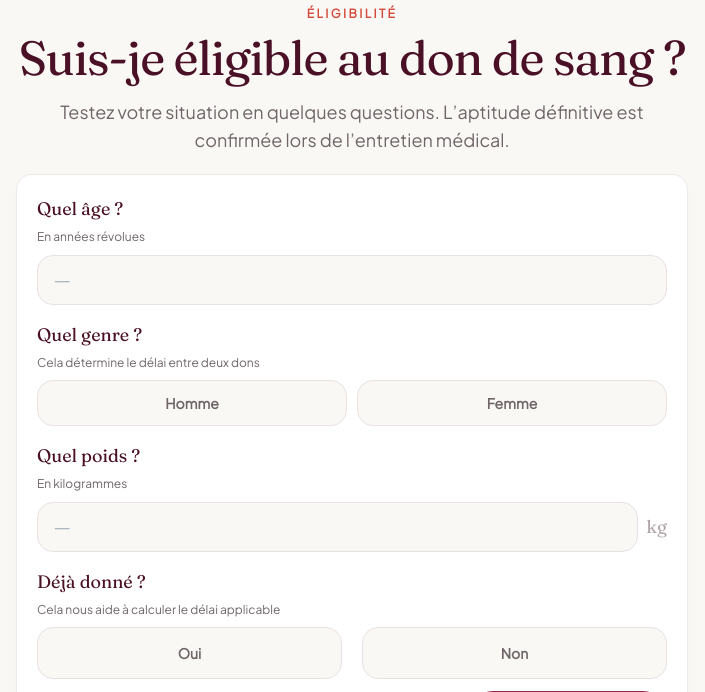
Test case: EligibilitySimulator › affiche directement le résultat si l’âge est bloquant
Type "16" into the number field labelled "Quel âge ?" at (352, 280), box [37, 254, 667, 304]
(page scrolled)
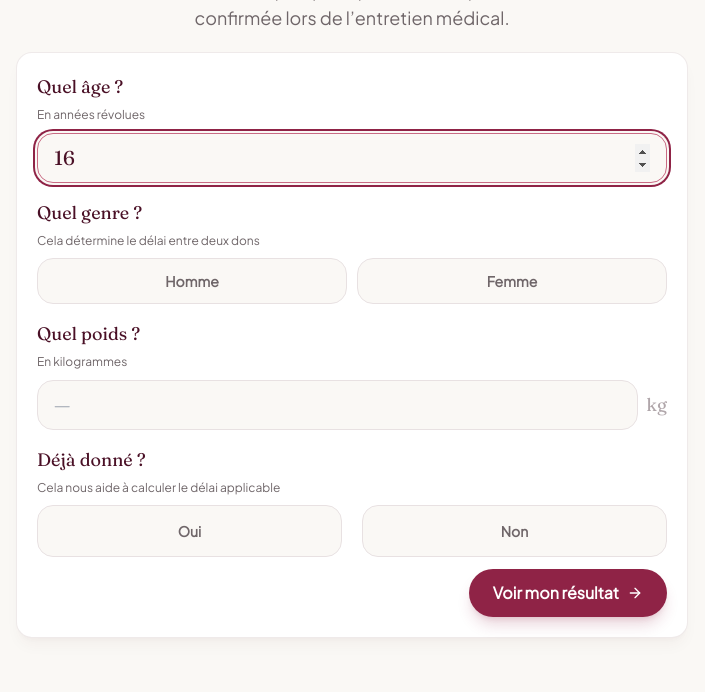
Click the button "Voir mon résultat" at (568, 593), box [469, 569, 667, 617]
(page scrolled)
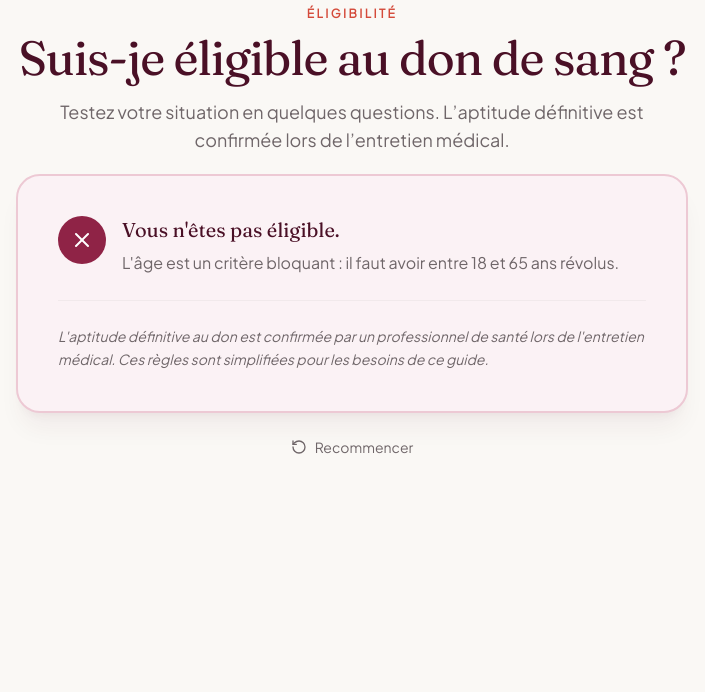
Check: the message shows "18 et 65 ans", box [122, 252, 619, 273]
Check: the text "Vous n'êtes pas éligible." is shown, box [122, 217, 340, 242]
